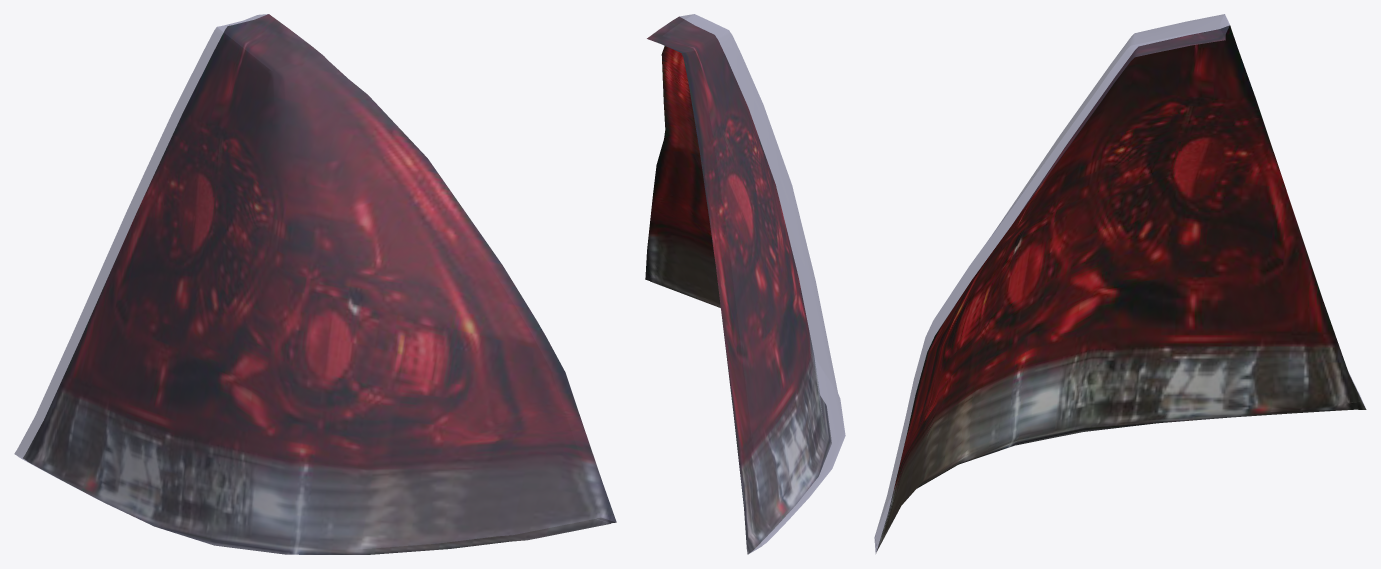
3 renders of one model, left to right at view 1: azimuth 30°, elevation 25°; view 2: azimuth 150°, elevation 25°; view 3: azimuth 270°, elevation 25°, orthographic. The views are drawn at different scales.
Visible parts, largest first — view 1: U417_541C_R_1_DTaSI_U417_541C_R, U417_541C_R_U417_541C_R_2_N; view 2: U417_541C_R_U417_541C_R_2_N, U417_541C_R_1_DTaSI_U417_541C_R; view 3: U417_541C_R_U417_541C_R_2_N, U417_541C_R_1_DTaSI_U417_541C_R.
Boxes of the visible parts, bbox=[...] form: U417_541C_R_1_DTaSI_U417_541C_R: bbox=[14, 14, 616, 554]; U417_541C_R_U417_541C_R_2_N: bbox=[23, 14, 616, 554]; U417_541C_R_U417_541C_R_2_N: bbox=[645, 16, 831, 554]; U417_541C_R_1_DTaSI_U417_541C_R: bbox=[647, 14, 845, 554]; U417_541C_R_U417_541C_R_2_N: bbox=[876, 25, 1366, 551]; U417_541C_R_1_DTaSI_U417_541C_R: bbox=[874, 14, 1364, 553].
Bounding box in the file's own units: 28.12 × 33.78 × 32.67.
